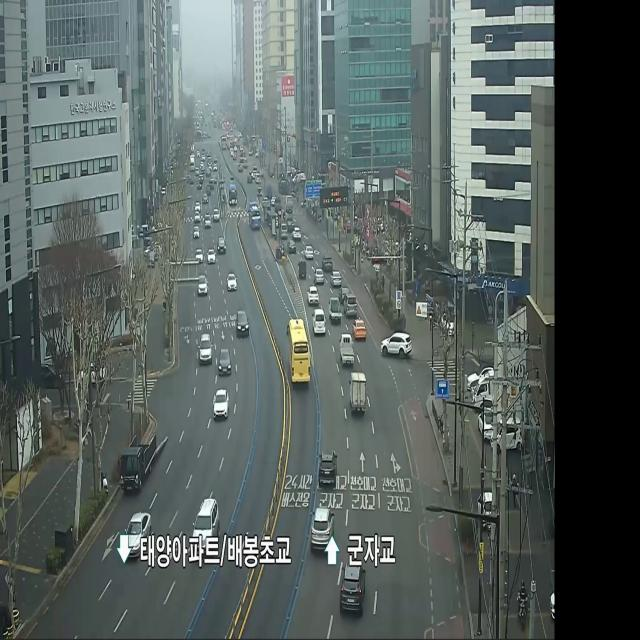car: (285, 318, 311, 384), (249, 202, 260, 230)
motorcycle: (341, 559, 366, 619), (190, 498, 220, 548), (126, 515, 153, 555), (379, 328, 412, 360), (311, 506, 333, 550), (319, 450, 336, 484), (212, 390, 228, 421), (339, 332, 353, 364), (198, 335, 212, 365), (236, 310, 248, 340), (219, 347, 231, 373), (344, 293, 357, 316), (313, 310, 324, 333), (226, 271, 238, 292), (306, 286, 320, 304), (353, 320, 366, 338), (197, 278, 208, 296), (298, 260, 307, 282), (322, 257, 333, 271), (332, 270, 342, 284), (217, 238, 226, 253), (207, 250, 216, 264), (288, 240, 297, 254), (315, 267, 323, 281), (195, 250, 203, 264), (305, 246, 314, 258), (293, 226, 301, 238), (213, 209, 220, 221), (205, 214, 210, 229), (194, 225, 199, 238)
truck: (120, 434, 155, 487), (350, 374, 366, 416), (330, 294, 341, 328)
